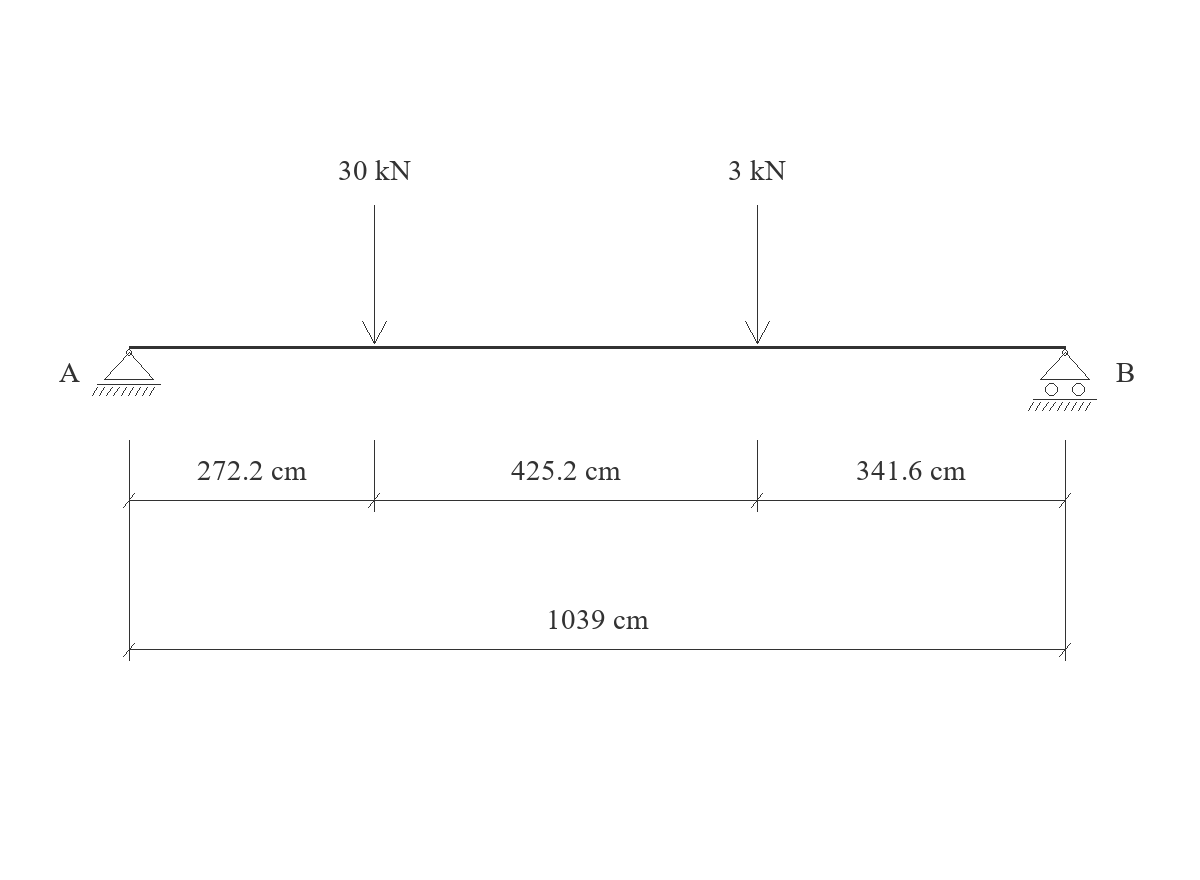pin_support: (92, 349, 161, 396)
point_load: (362, 205, 387, 344), (745, 205, 770, 344)
roller_support: (1028, 349, 1097, 411)
